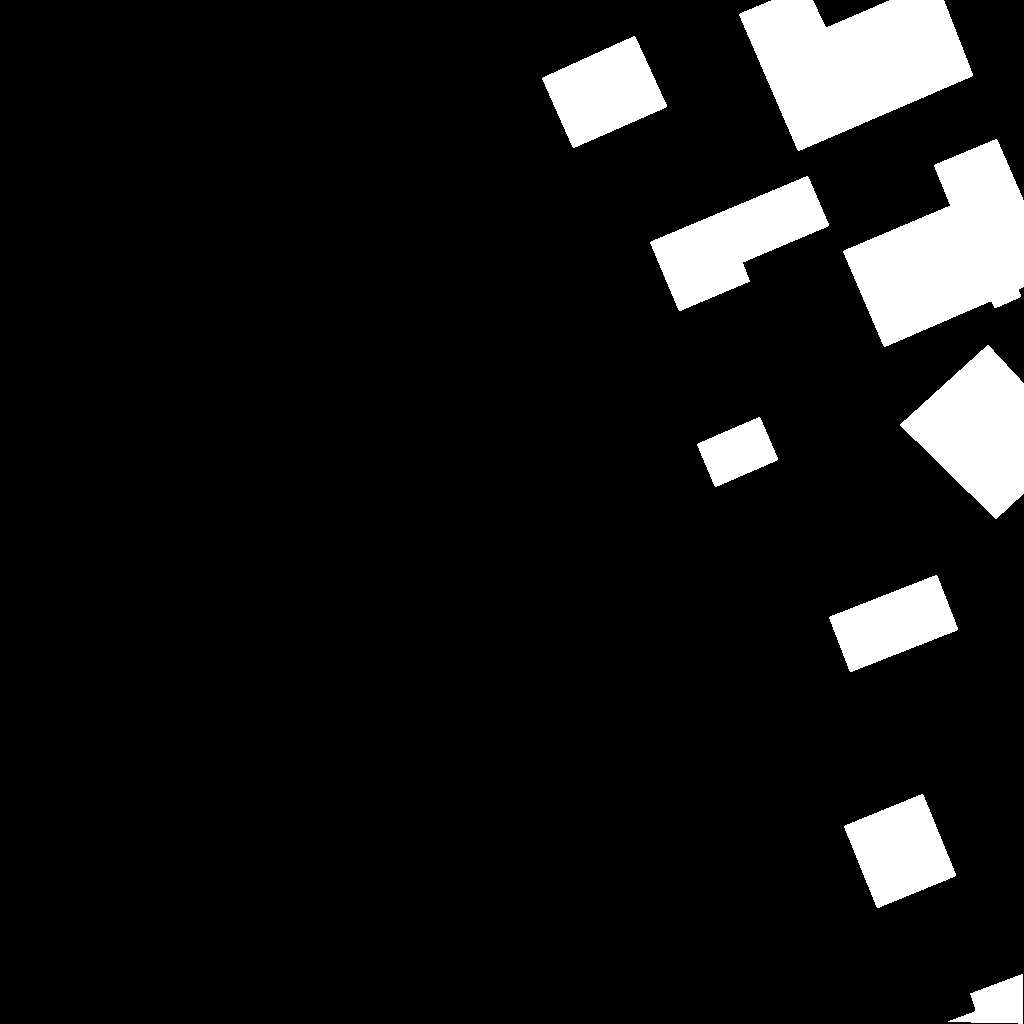building: (843, 139, 1024, 348), (739, 0, 974, 152), (650, 176, 830, 312), (900, 345, 1024, 520), (542, 36, 668, 149), (844, 794, 957, 909), (829, 575, 959, 673), (697, 417, 779, 488), (947, 974, 1024, 1024)
